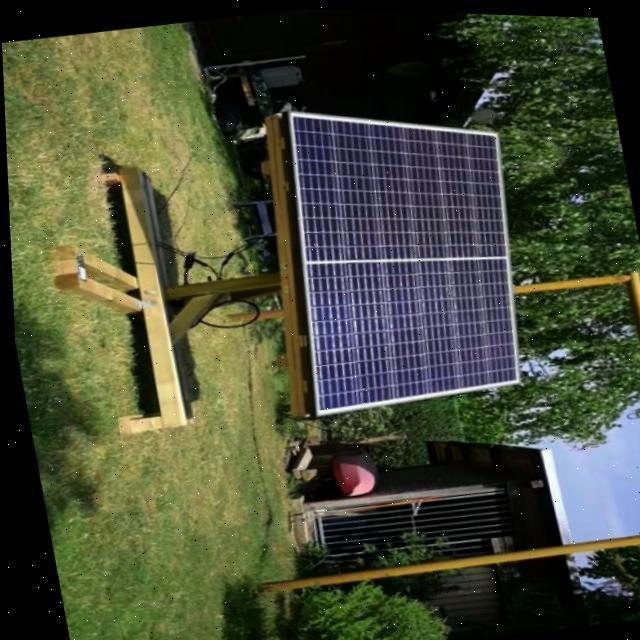Normal Solar Panel: (249, 80, 542, 420)
